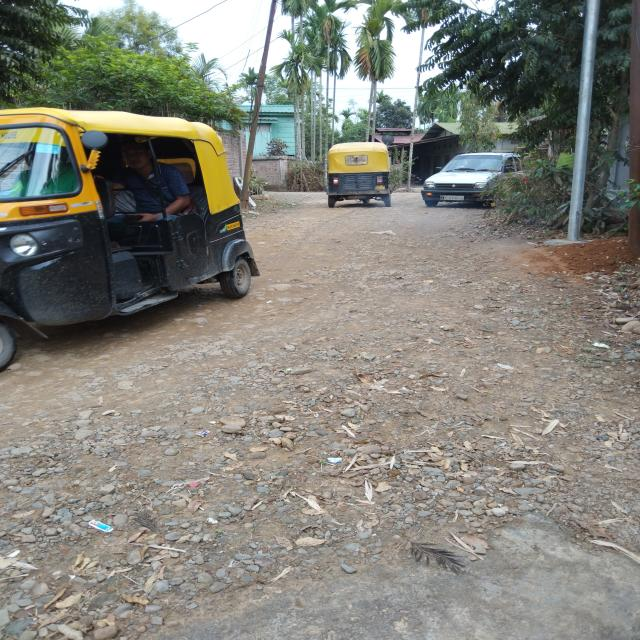Autorickshaw: (0, 92, 269, 357), (310, 136, 410, 213)
Car: (415, 144, 540, 206)
